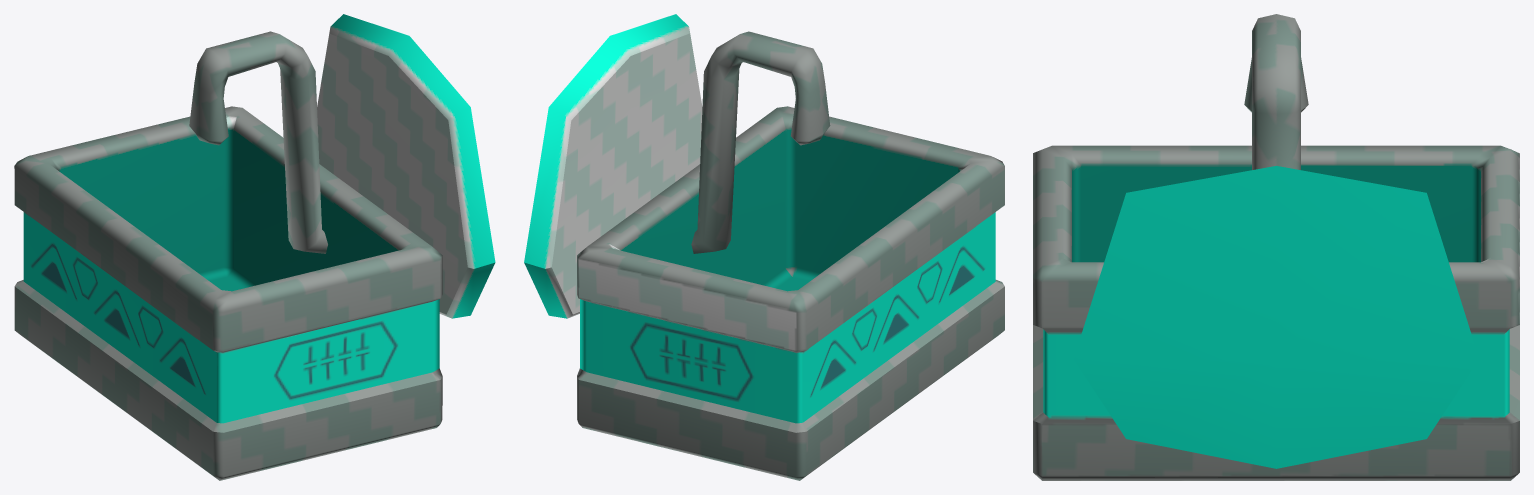
The model's file is SM_Props_25.fbx.
The picture shows the model from 3 angles, left to right: view 1: azimuth 30°, elevation 25°; view 2: azimuth 150°, elevation 25°; view 3: azimuth 270°, elevation 25°; orthographic projection. The views are drawn at different scales.
Parts seen in each view (by area): view 1: SM_Props_25; view 2: SM_Props_25; view 3: SM_Props_25.
Boxes of the visible parts, x1,y1,x2,y2 form: SM_Props_25: (14,14,495,480); SM_Props_25: (524,14,1004,480); SM_Props_25: (1033,14,1519,480).
Size of the model in its own units: 34.6 by 41.33 by 37.12.
1 material, 1 textured.
